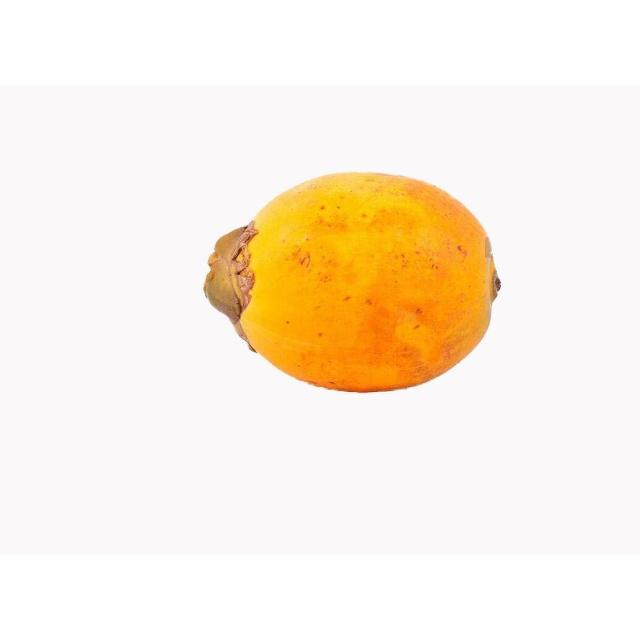good: (202, 172, 502, 395)
